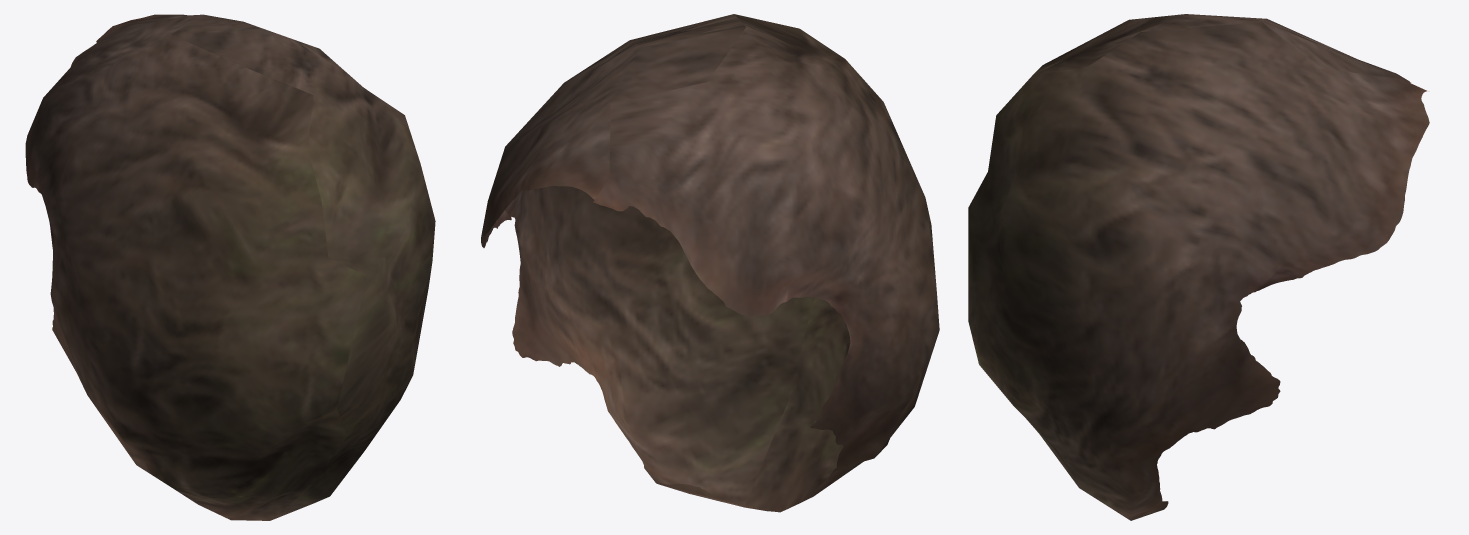
Rendered from hair.obj.
The picture shows the model from 3 angles, left to right: view 1: azimuth 30°, elevation 25°; view 2: azimuth 150°, elevation 25°; view 3: azimuth 270°, elevation 25°; orthographic projection. The views are drawn at different scales.
Visible parts, largest first — view 1: hair; view 2: hair; view 3: hair.
Part boxes in pixels (box(x1,y1,x2,y2)): hair: box(25, 14, 435, 520); hair: box(481, 14, 939, 512); hair: box(968, 14, 1429, 520).
Bounding box in the file's own units: 0.1735 × 0.2168 × 0.206.
1 material, 1 textured.
